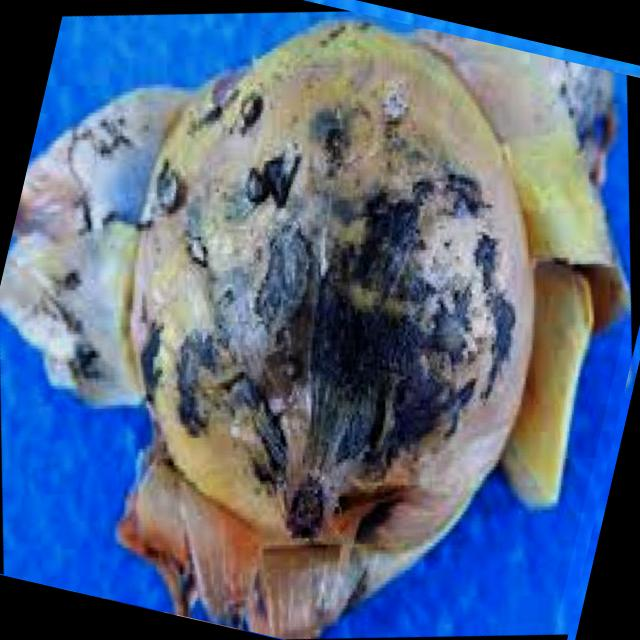rotten: (0, 19, 630, 638)
